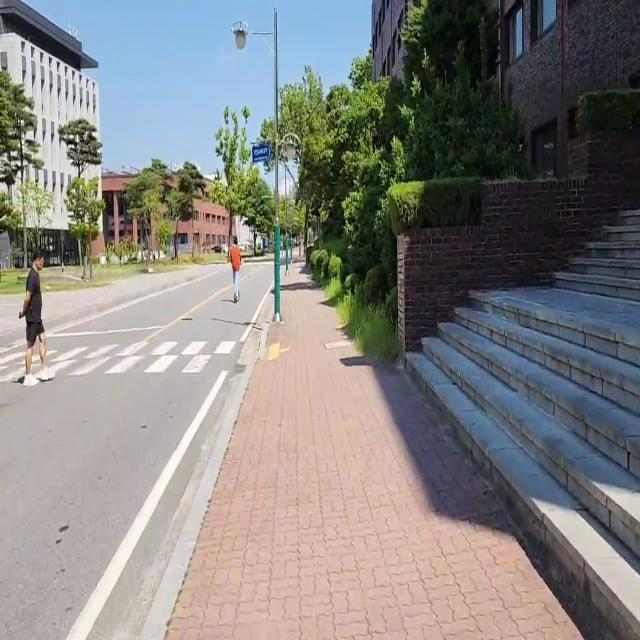human: (18, 249, 58, 387), (228, 233, 246, 308)
streetlamp: (227, 1, 303, 332)
